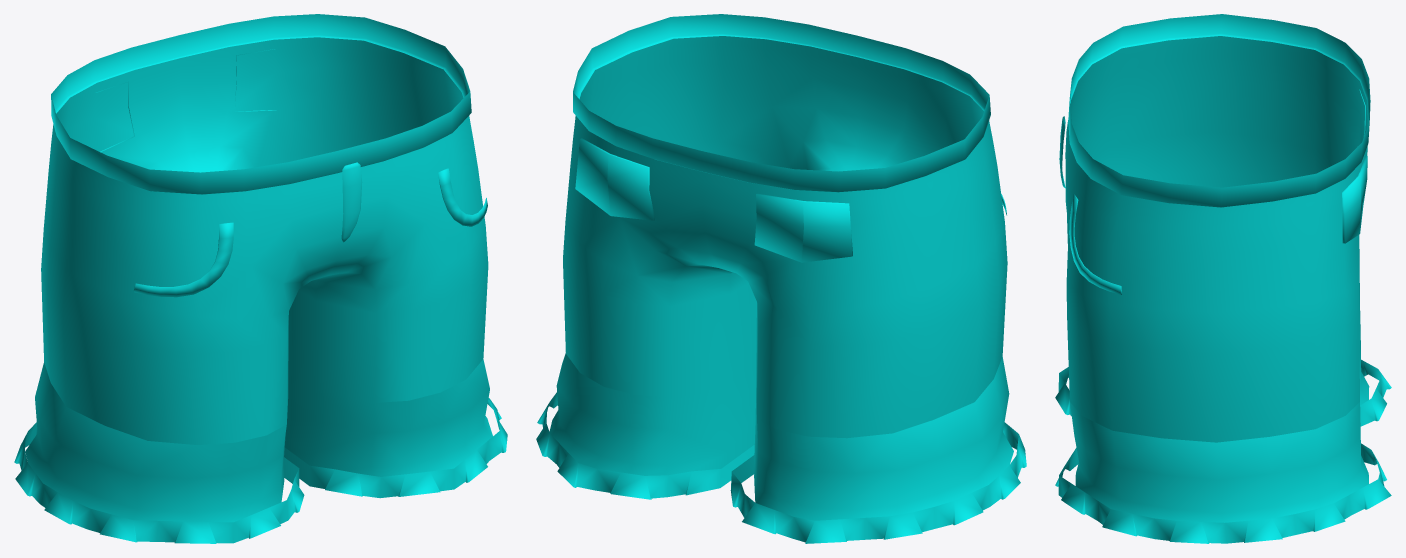
3 renders of one model, left to right at view 1: azimuth 30°, elevation 25°; view 2: azimuth 150°, elevation 25°; view 3: azimuth 270°, elevation 25°, orthographic. The views are drawn at different scales.
Visible parts, largest first — view 1: P_D; view 2: P_D; view 3: P_D.
Boxes of the visible parts, x1,y1,x2,y2 form: P_D: (14, 14, 507, 543); P_D: (536, 14, 1026, 543); P_D: (1055, 14, 1391, 543).
Bounding box in the file's own units: 122 × 95.17 × 84.64.
